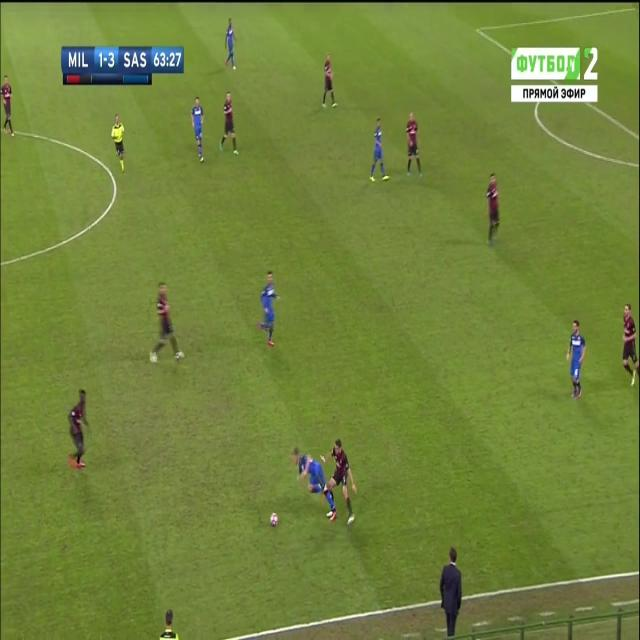Ball: (269, 510, 279, 532)
Player: (321, 436, 360, 530), (147, 278, 184, 367), (292, 445, 335, 517), (64, 387, 92, 476), (257, 268, 285, 354), (566, 318, 590, 402), (367, 115, 391, 188), (620, 299, 640, 386), (218, 88, 241, 158), (483, 170, 501, 250), (404, 106, 422, 182), (189, 95, 206, 170), (319, 52, 339, 113), (0, 75, 18, 142), (222, 13, 238, 74)
Referee: (108, 112, 129, 176)
